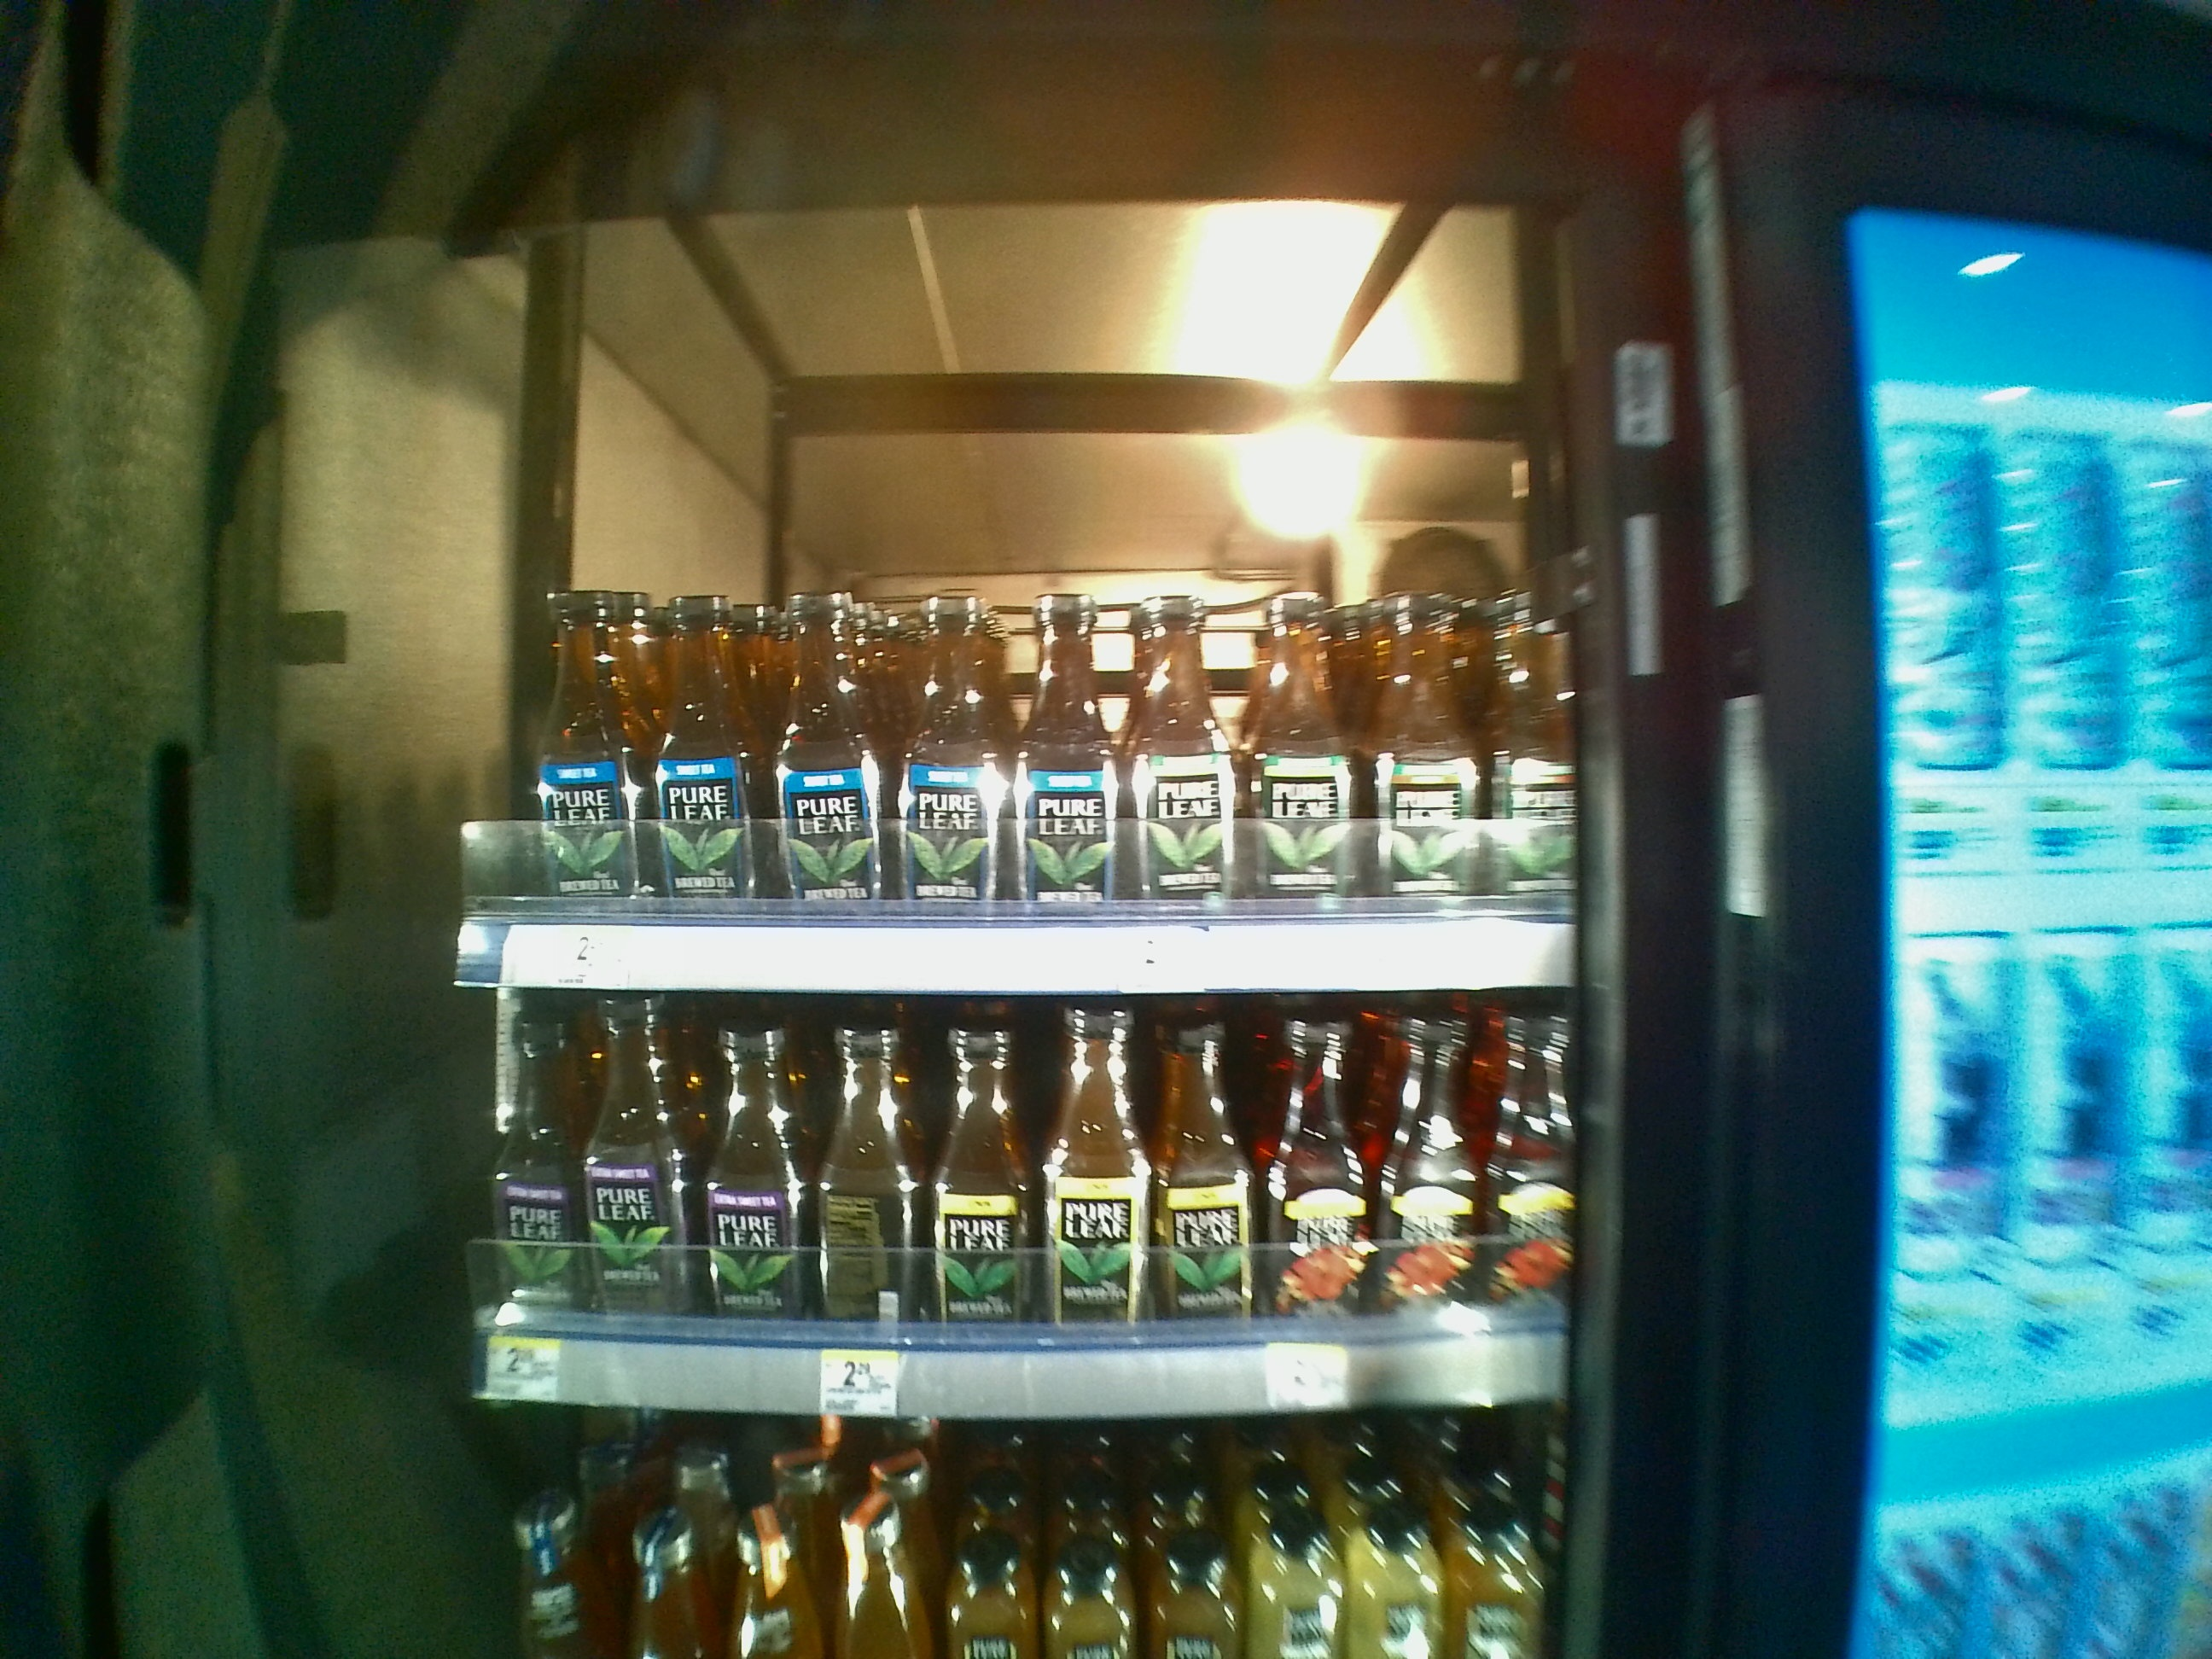shelf: (451, 230, 1581, 990), (462, 1000, 1576, 1413)
